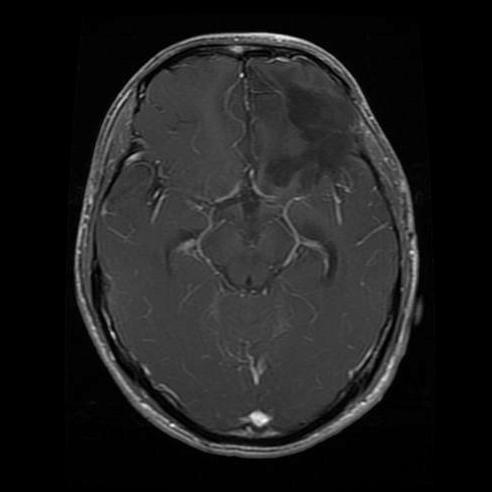Tumour-Glioma: (264, 75, 348, 181)
